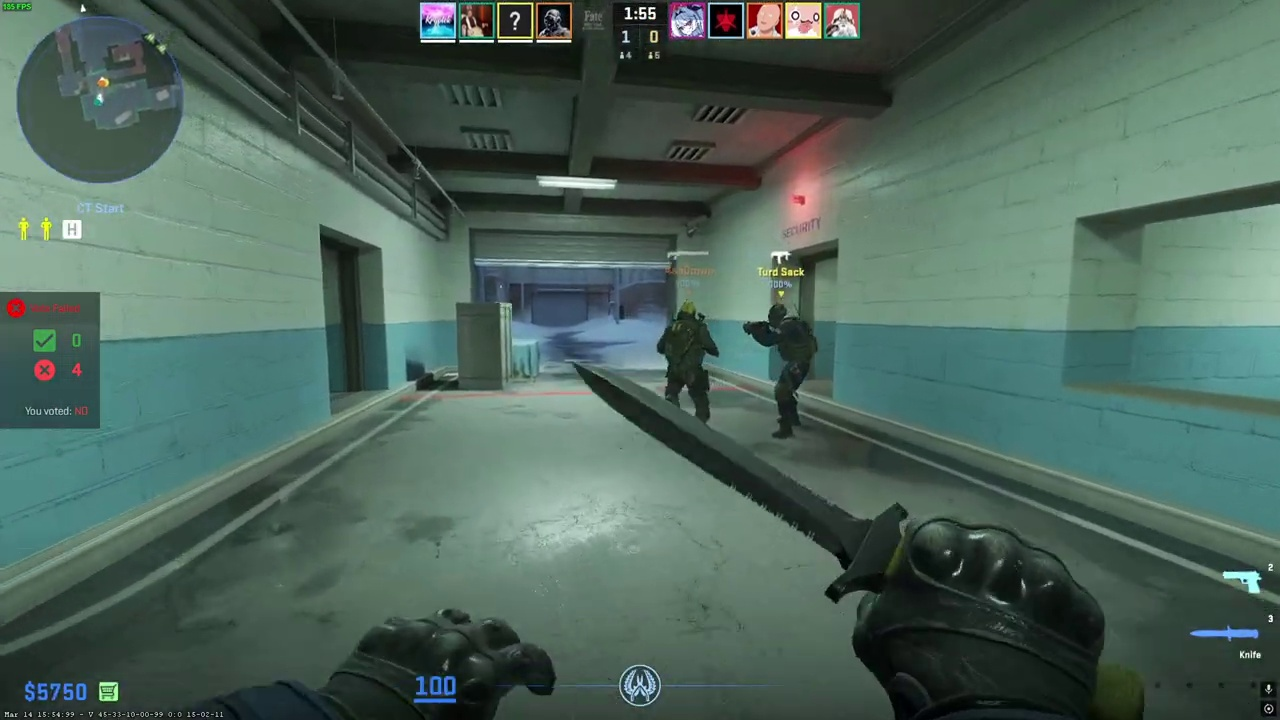CT: (761, 302, 813, 438), (663, 302, 716, 427)
